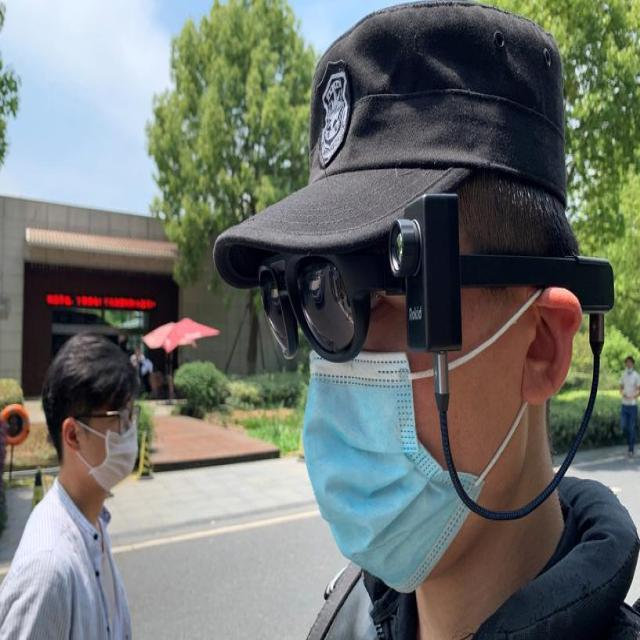Mask: (300, 342, 482, 599)
